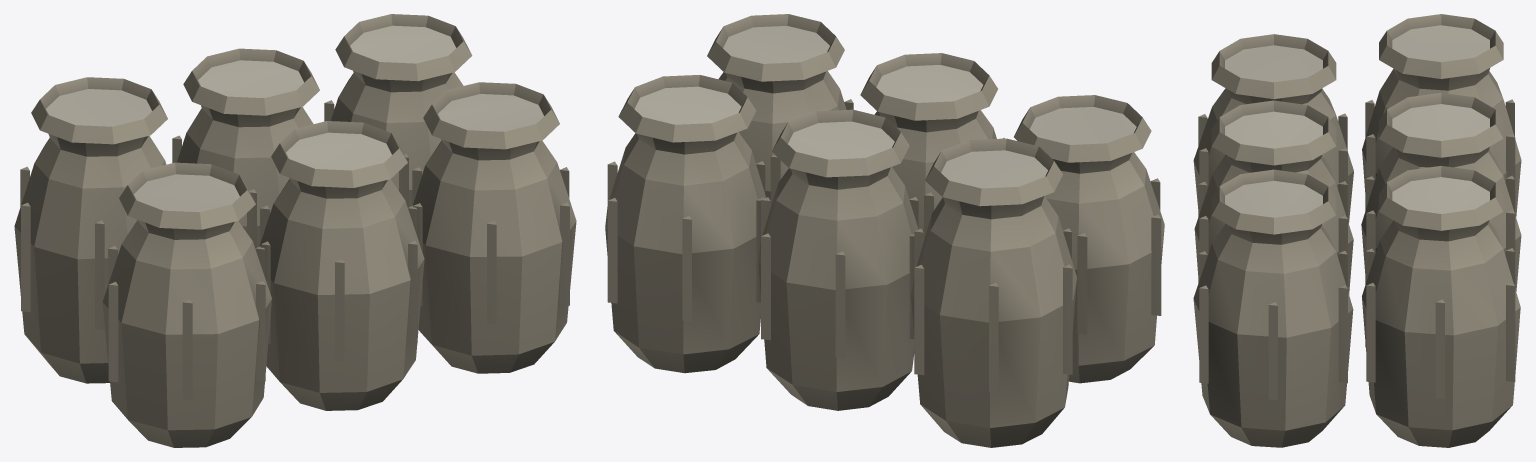
Rendered from stonejars.glb.
3 views of the same model, side by side, from view 1: azimuth 30°, elevation 25°; view 2: azimuth 150°, elevation 25°; view 3: azimuth 270°, elevation 25° (orthographic). The views are drawn at different scales.
Visible parts, largest first — view 1: base; view 2: base; view 3: base.
Boxes of the visible parts, left/top/right/bottom form: base: left=14, top=14, right=576, bottom=447; base: left=605, top=14, right=1164, bottom=447; base: left=1193, top=14, right=1521, bottom=447.
Size of the model in its own units: 0.3627 by 0.1966 by 0.2355.
